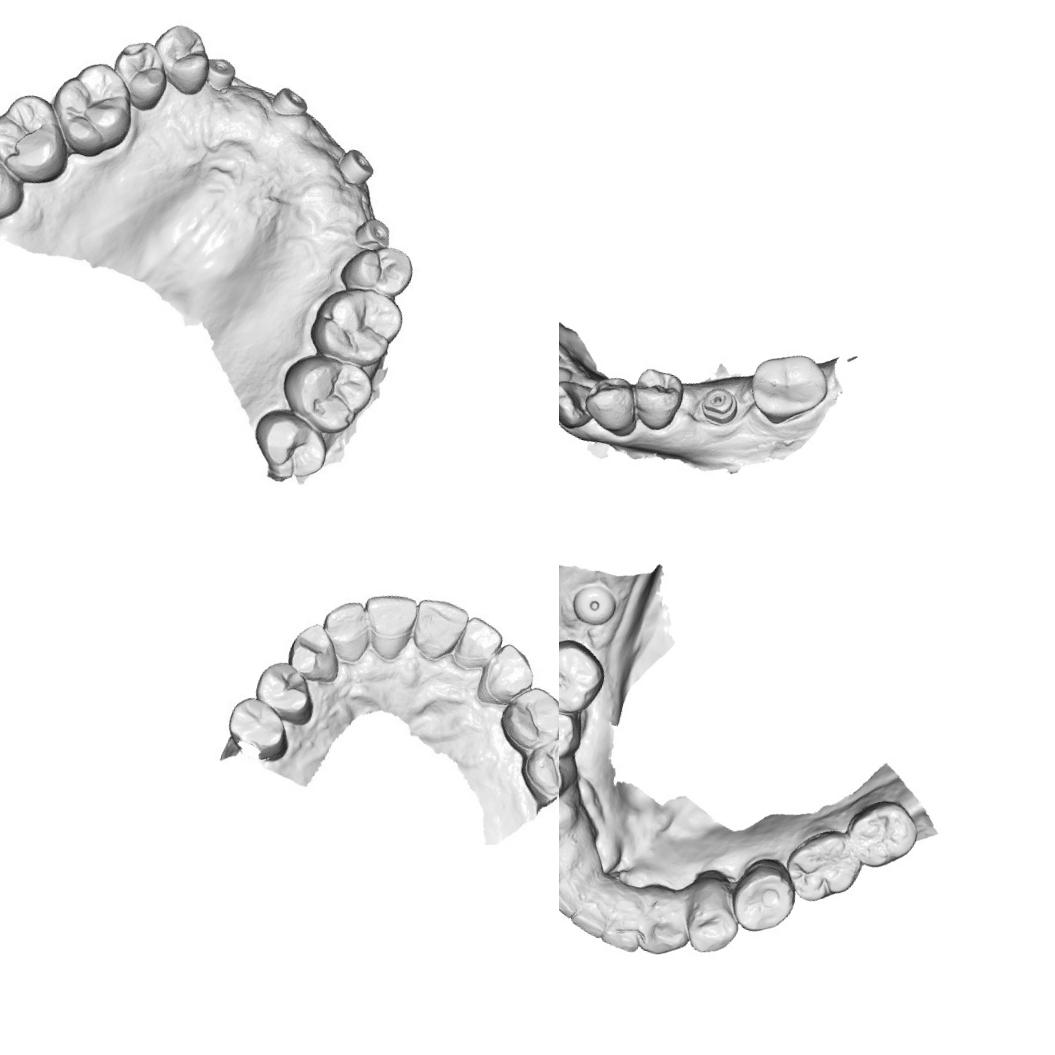canine: (476, 638, 544, 714), (282, 615, 346, 682), (638, 895, 698, 962), (559, 374, 596, 433), (559, 790, 576, 855)
implant: (330, 139, 384, 189), (570, 581, 620, 628), (264, 78, 314, 122), (352, 212, 396, 250), (202, 52, 239, 94)
implant_minus: (696, 381, 742, 427)
incisor: (350, 584, 418, 663), (404, 590, 470, 665), (313, 593, 378, 665), (600, 881, 657, 957), (568, 871, 628, 943), (454, 613, 507, 674), (559, 861, 596, 924), (559, 353, 575, 405), (559, 839, 570, 896)
molar: (37, 50, 145, 168), (303, 273, 411, 375), (271, 344, 379, 442), (775, 819, 872, 912), (740, 342, 836, 435), (0, 85, 81, 190), (244, 401, 334, 490), (839, 792, 924, 874), (559, 637, 610, 714), (0, 148, 29, 224)
premolar: (142, 16, 220, 99), (102, 32, 178, 116), (728, 856, 802, 940), (245, 654, 322, 727), (489, 678, 559, 758), (340, 236, 420, 302), (220, 694, 294, 764), (684, 880, 748, 960), (622, 362, 690, 437), (577, 369, 643, 436), (516, 729, 559, 810), (559, 700, 584, 763)
